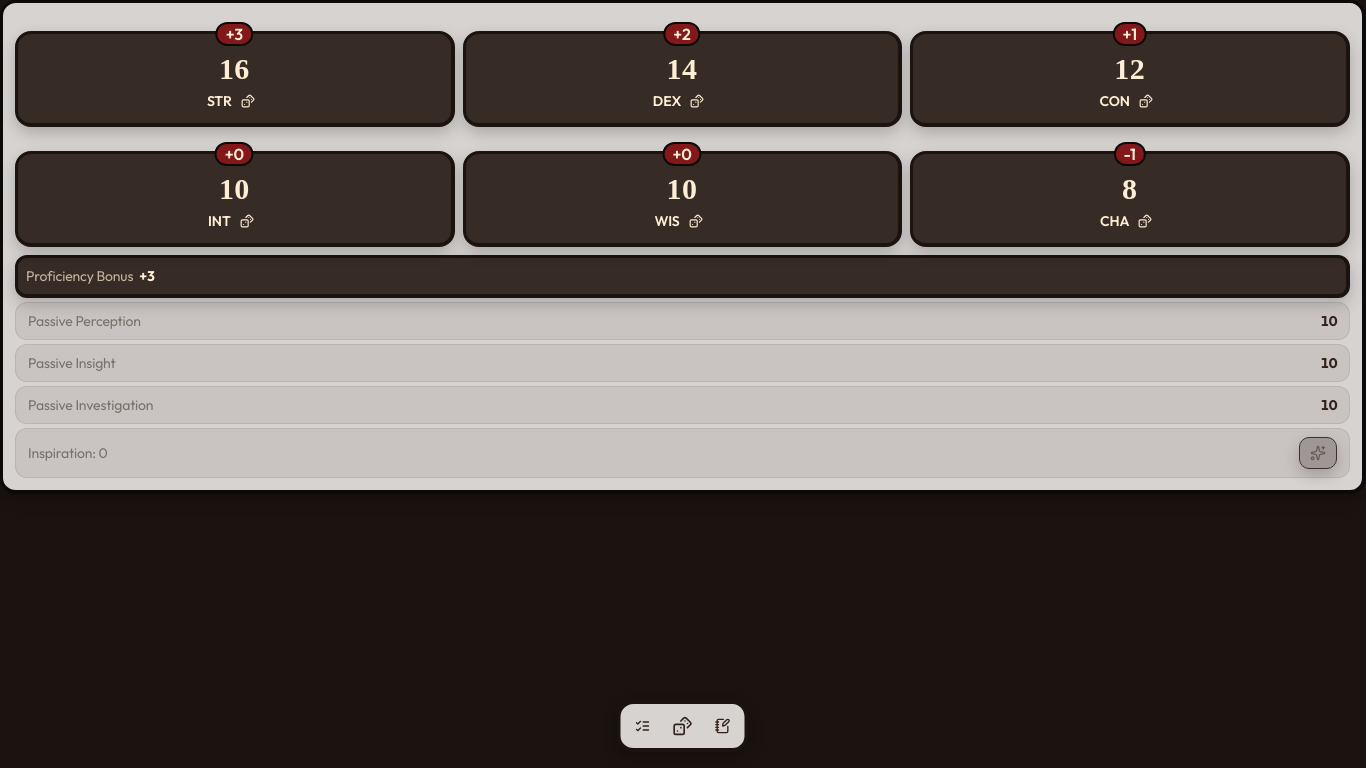
Scenario: AbilitiesSection › opens an ability check from the ability card
This screenshot has width=1366, height=768.
Click the button named "Roll Strength": click(248, 101) [234,87,262,115]
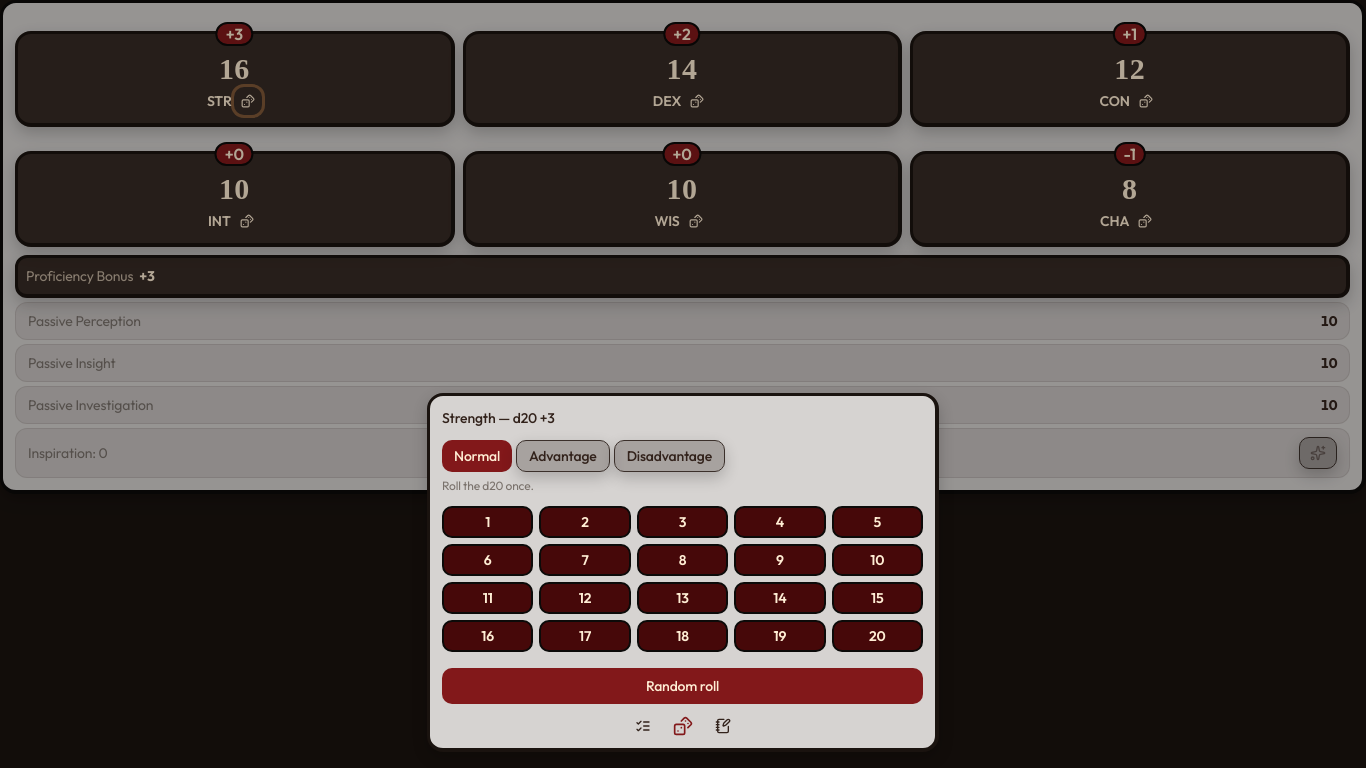
Expected: the text "Strength — d20 +3" is shown, [442,409,555,427]
